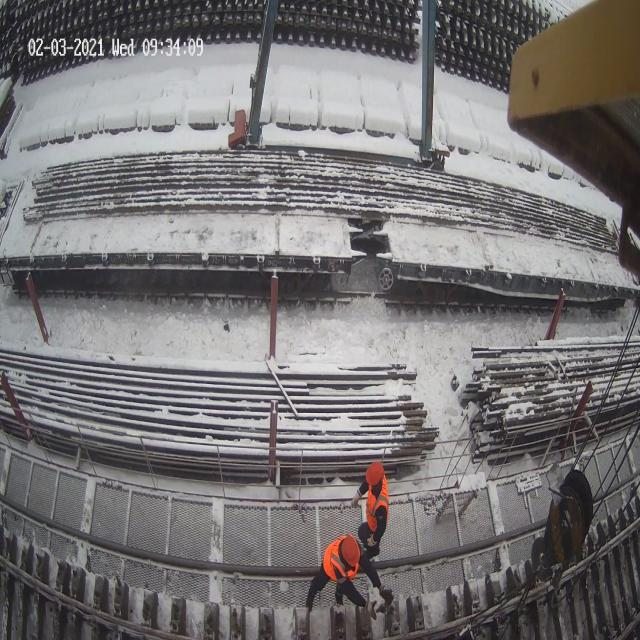Helmet: (339, 534, 360, 579), (365, 462, 385, 486)
Person: (305, 534, 394, 614), (350, 461, 390, 557)
